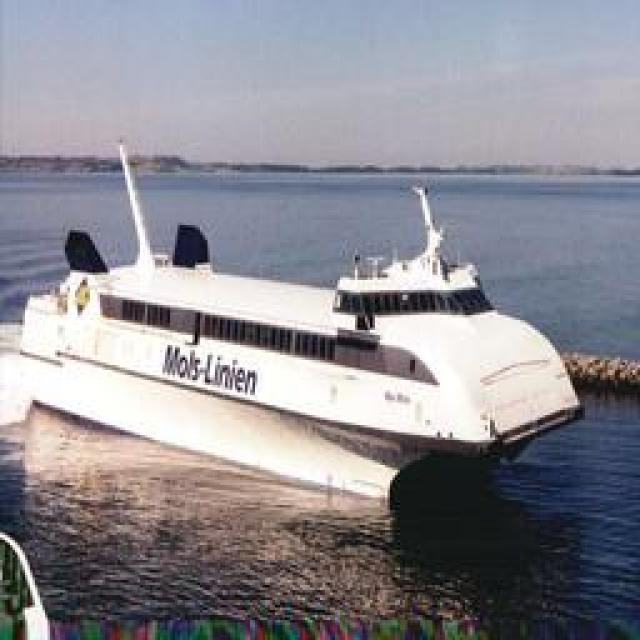CIV_Ship: (12, 136, 572, 476)
